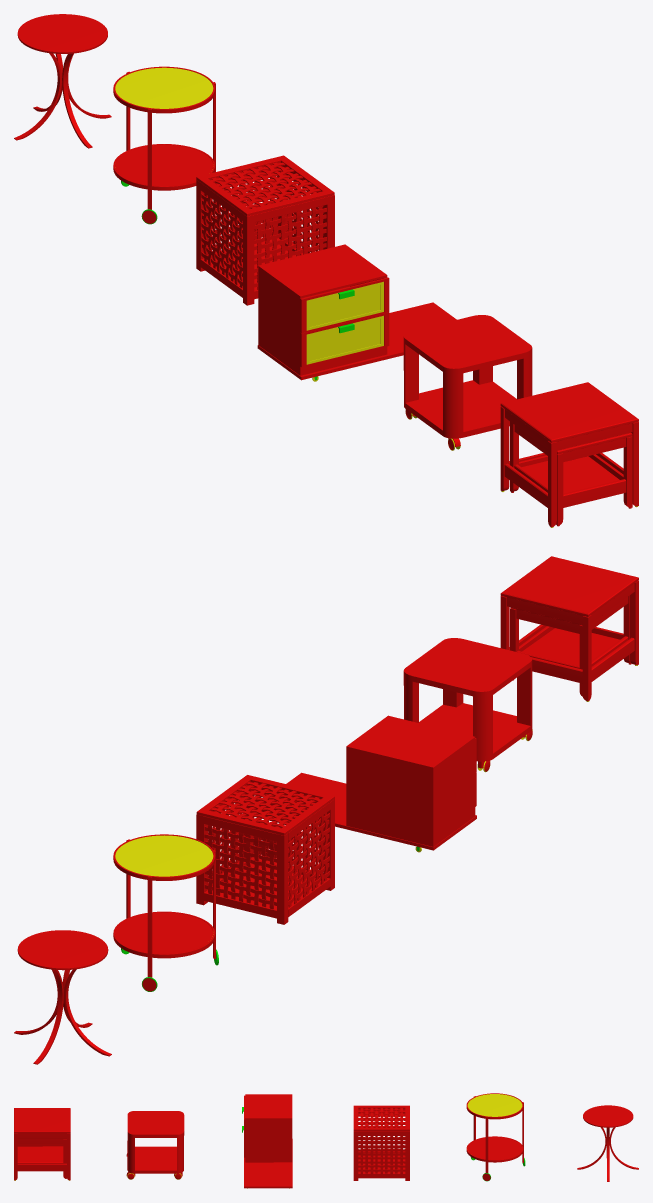
Rendered from RoboTHOR_side_tables_grp.fbx.
3 views of the same model, one above another, from view 1: azimuth 30°, elevation 25°; view 2: azimuth 150°, elevation 25°; view 3: azimuth 270°, elevation 25° (orthographic). The views are drawn at different scales.
Visible parts, largest first — view 1: robothor_side_table_hopen, robothor_side_table_hol, robothor_side_table_tingby, robothor_side_table_havsta, robothor_side_table_nested_havsta, robothor_side_table_strind, robothor_side_table_lid_hol, robothor_side_table_fornbro, robothor_side_table_drawer_1_hopen, robothor_side_table_drawer_2_hopen, ps_robothor_side_table_strind, ps_robothor_side_table_tingby; view 2: robothor_side_table_hopen, robothor_side_table_hol, robothor_side_table_havsta, robothor_side_table_tingby, robothor_side_table_strind, robothor_side_table_lid_hol, robothor_side_table_fornbro, robothor_side_table_nested_havsta, ps_robothor_side_table_strind, ps_robothor_side_table_tingby; view 3: robothor_side_table_hopen, robothor_side_table_hol, robothor_side_table_havsta, robothor_side_table_tingby, robothor_side_table_strind, robothor_side_table_lid_hol, robothor_side_table_fornbro, robothor_side_table_nested_havsta, ps_robothor_side_table_tingby, ps_robothor_side_table_strind.
Part boxes in pixels (x1,y1,x2,y2): robothor_side_table_hopen: (257, 244, 456, 381); robothor_side_table_hol: (196, 165, 334, 305); robothor_side_table_tingby: (403, 315, 532, 450); robothor_side_table_havsta: (500, 382, 638, 527); robothor_side_table_nested_havsta: (510, 421, 632, 526); robothor_side_table_strind: (113, 66, 215, 224); robothor_side_table_lid_hol: (196, 155, 334, 216); robothor_side_table_fornbro: (14, 14, 111, 148); robothor_side_table_drawer_1_hopen: (300, 277, 389, 333); robothor_side_table_drawer_2_hopen: (300, 312, 389, 367); ps_robothor_side_table_strind: (115, 144, 213, 186); ps_robothor_side_table_tingby: (406, 380, 516, 431); robothor_side_table_hopen: (262, 715, 476, 852); robothor_side_table_hol: (196, 784, 334, 924); robothor_side_table_havsta: (500, 556, 638, 701); robothor_side_table_tingby: (403, 638, 532, 772); robothor_side_table_strind: (113, 834, 218, 991); robothor_side_table_lid_hol: (196, 775, 334, 835); robothor_side_table_fornbro: (14, 930, 111, 1064); robothor_side_table_nested_havsta: (510, 595, 631, 696); ps_robothor_side_table_strind: (115, 912, 213, 953); ps_robothor_side_table_tingby: (419, 703, 530, 753); robothor_side_table_hopen: (244, 1094, 292, 1188); robothor_side_table_hol: (353, 1109, 409, 1180); robothor_side_table_havsta: (14, 1108, 70, 1180); robothor_side_table_tingby: (126, 1111, 184, 1179); robothor_side_table_strind: (466, 1093, 525, 1181); robothor_side_table_lid_hol: (353, 1105, 409, 1130); robothor_side_table_fornbro: (577, 1105, 638, 1181); robothor_side_table_nested_havsta: (17, 1138, 66, 1178); ps_robothor_side_table_tingby: (127, 1146, 176, 1170); ps_robothor_side_table_strind: (467, 1137, 522, 1159).
Size of the model in its own units: 100 by 62.1 by 552.
